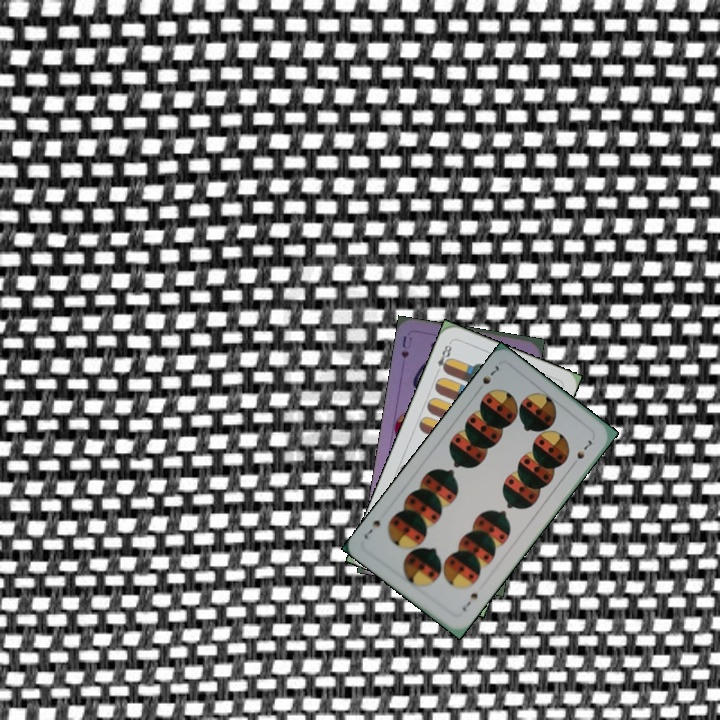E8: (432, 338, 454, 377)
S7: (458, 587, 481, 614), (479, 361, 502, 387)
SU: (397, 332, 415, 361)
